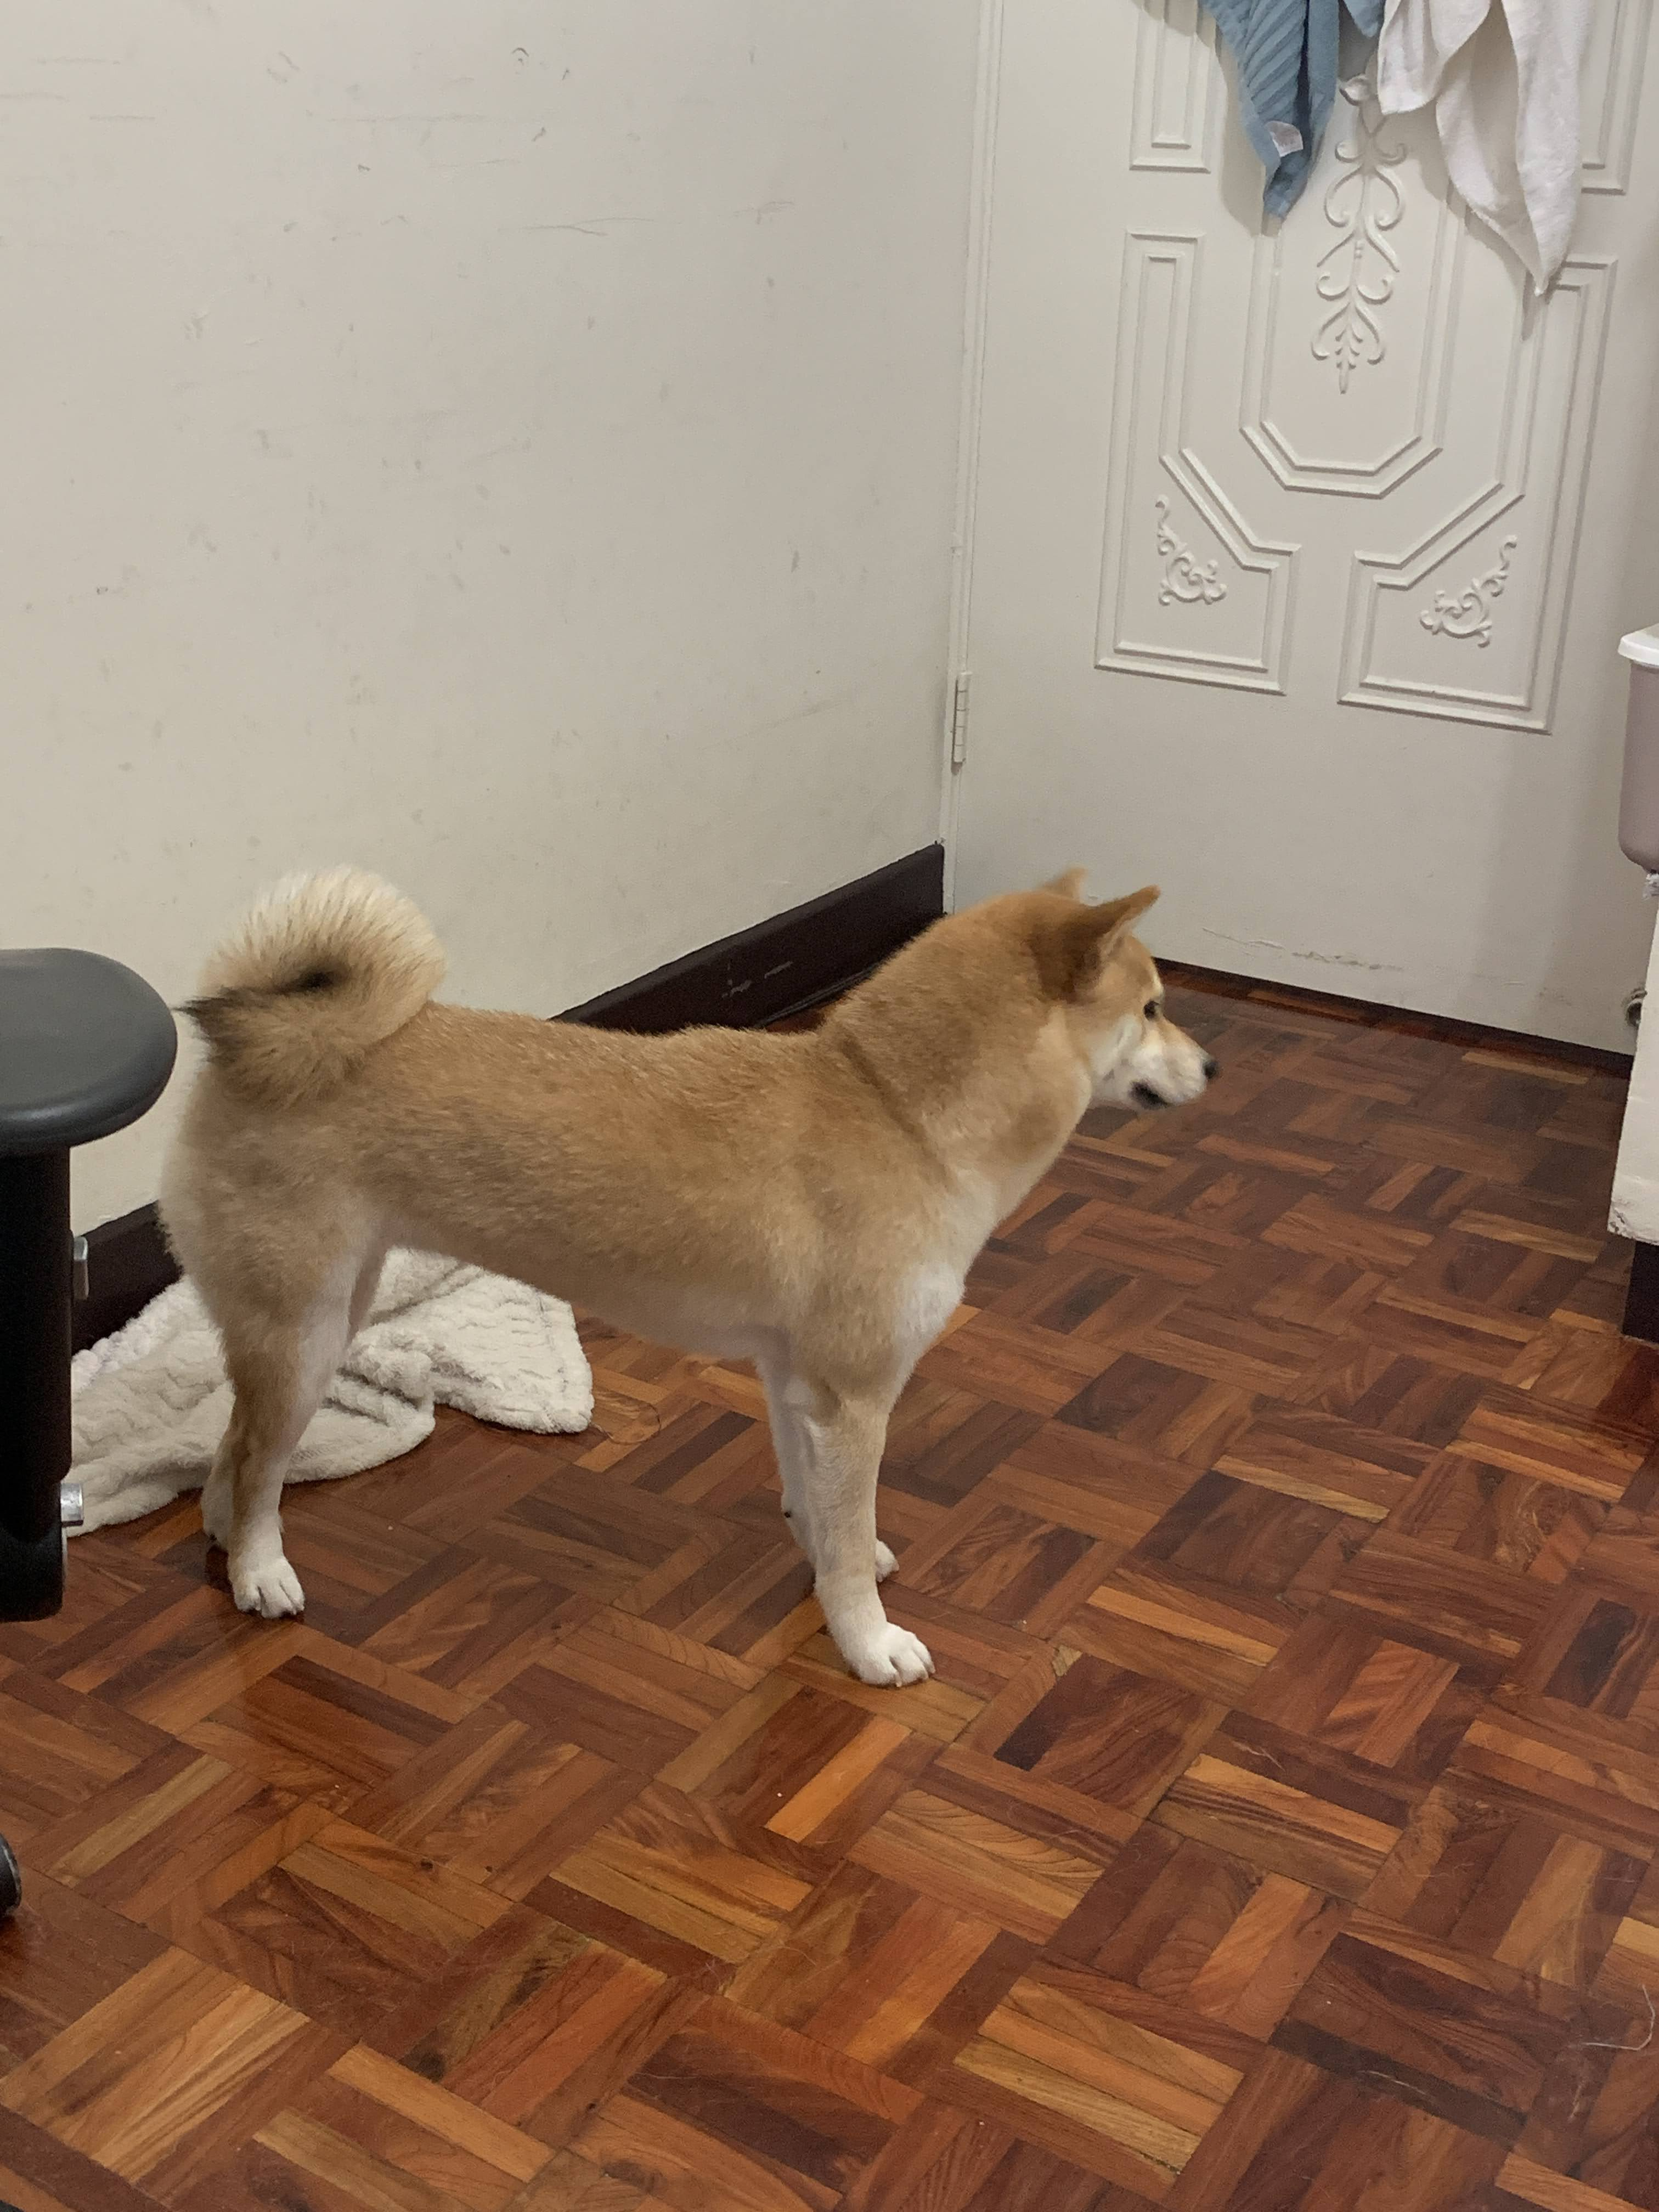Stand up: (173, 829, 1188, 1735)
